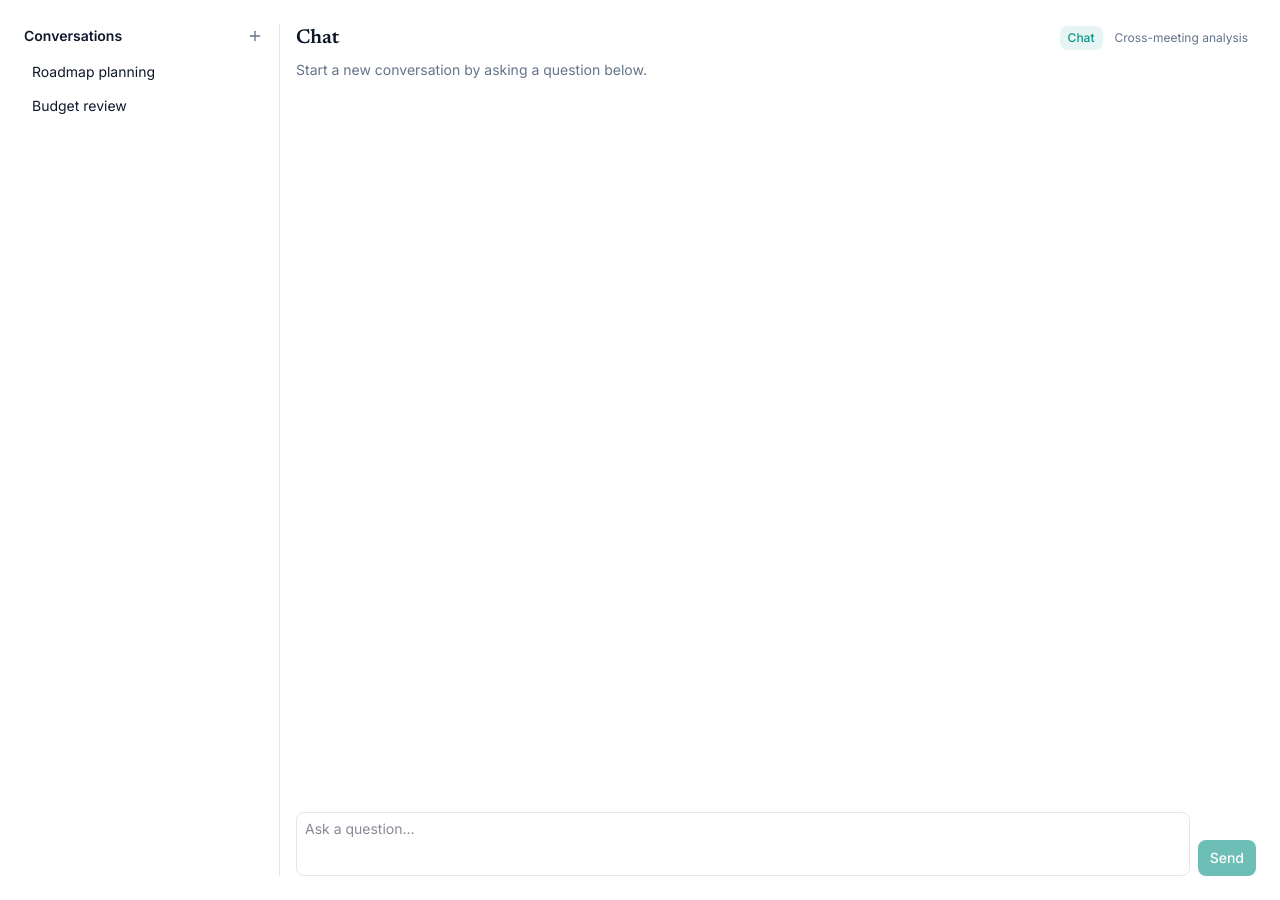
Test: ChatScreen › lists existing conversations and loads the selected one’s messages
This screenshot has width=1280, height=900.
Expected: the button "Roadmap planning" is shown, [24,56,267,88]
Click the button "Budget review".
click(146, 106)  # box [24,90,267,122]
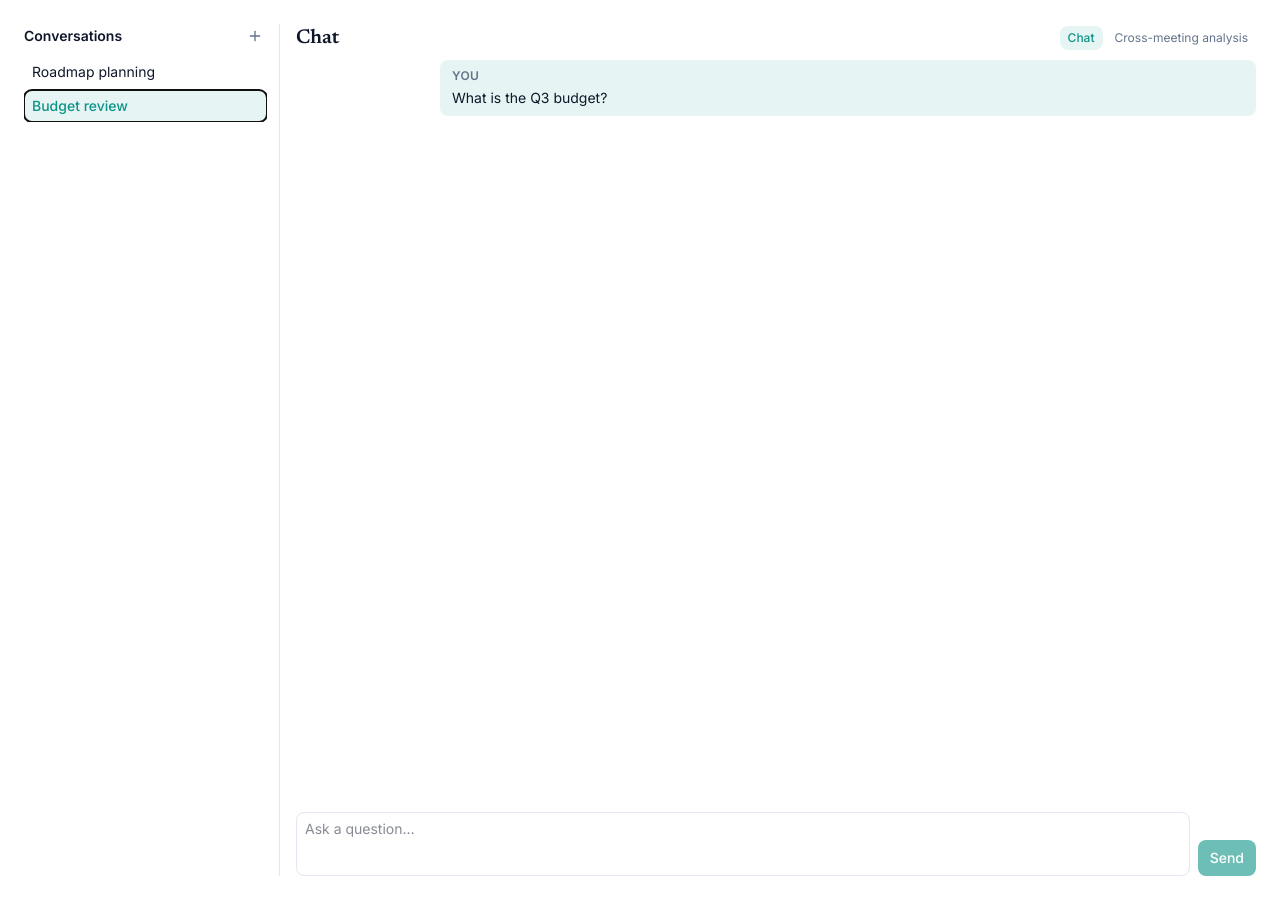
Expected: the text "What is the Q3 budget?" is shown, [452,89,607,106]
